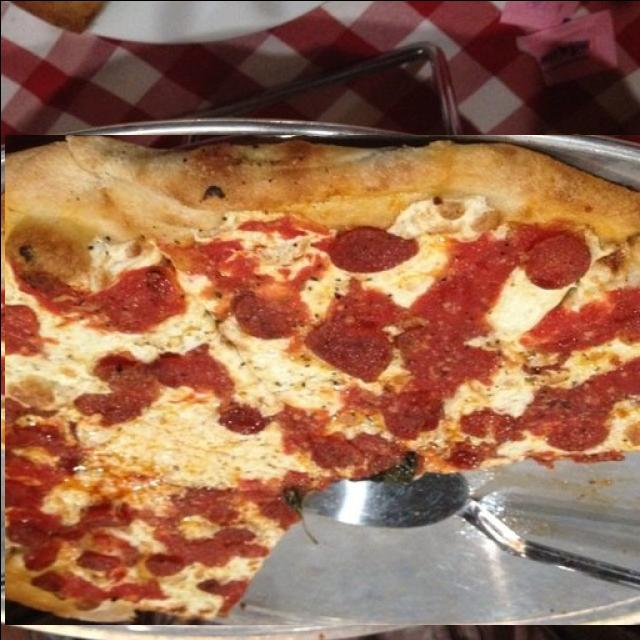basil: (325, 484, 364, 542), (221, 454, 281, 482)
pepperoni: (249, 324, 344, 380), (226, 227, 319, 272), (338, 286, 414, 339), (56, 233, 120, 287), (604, 305, 640, 357), (381, 399, 421, 434), (524, 551, 568, 569), (458, 556, 498, 575)
pizza: (4, 134, 640, 624)
